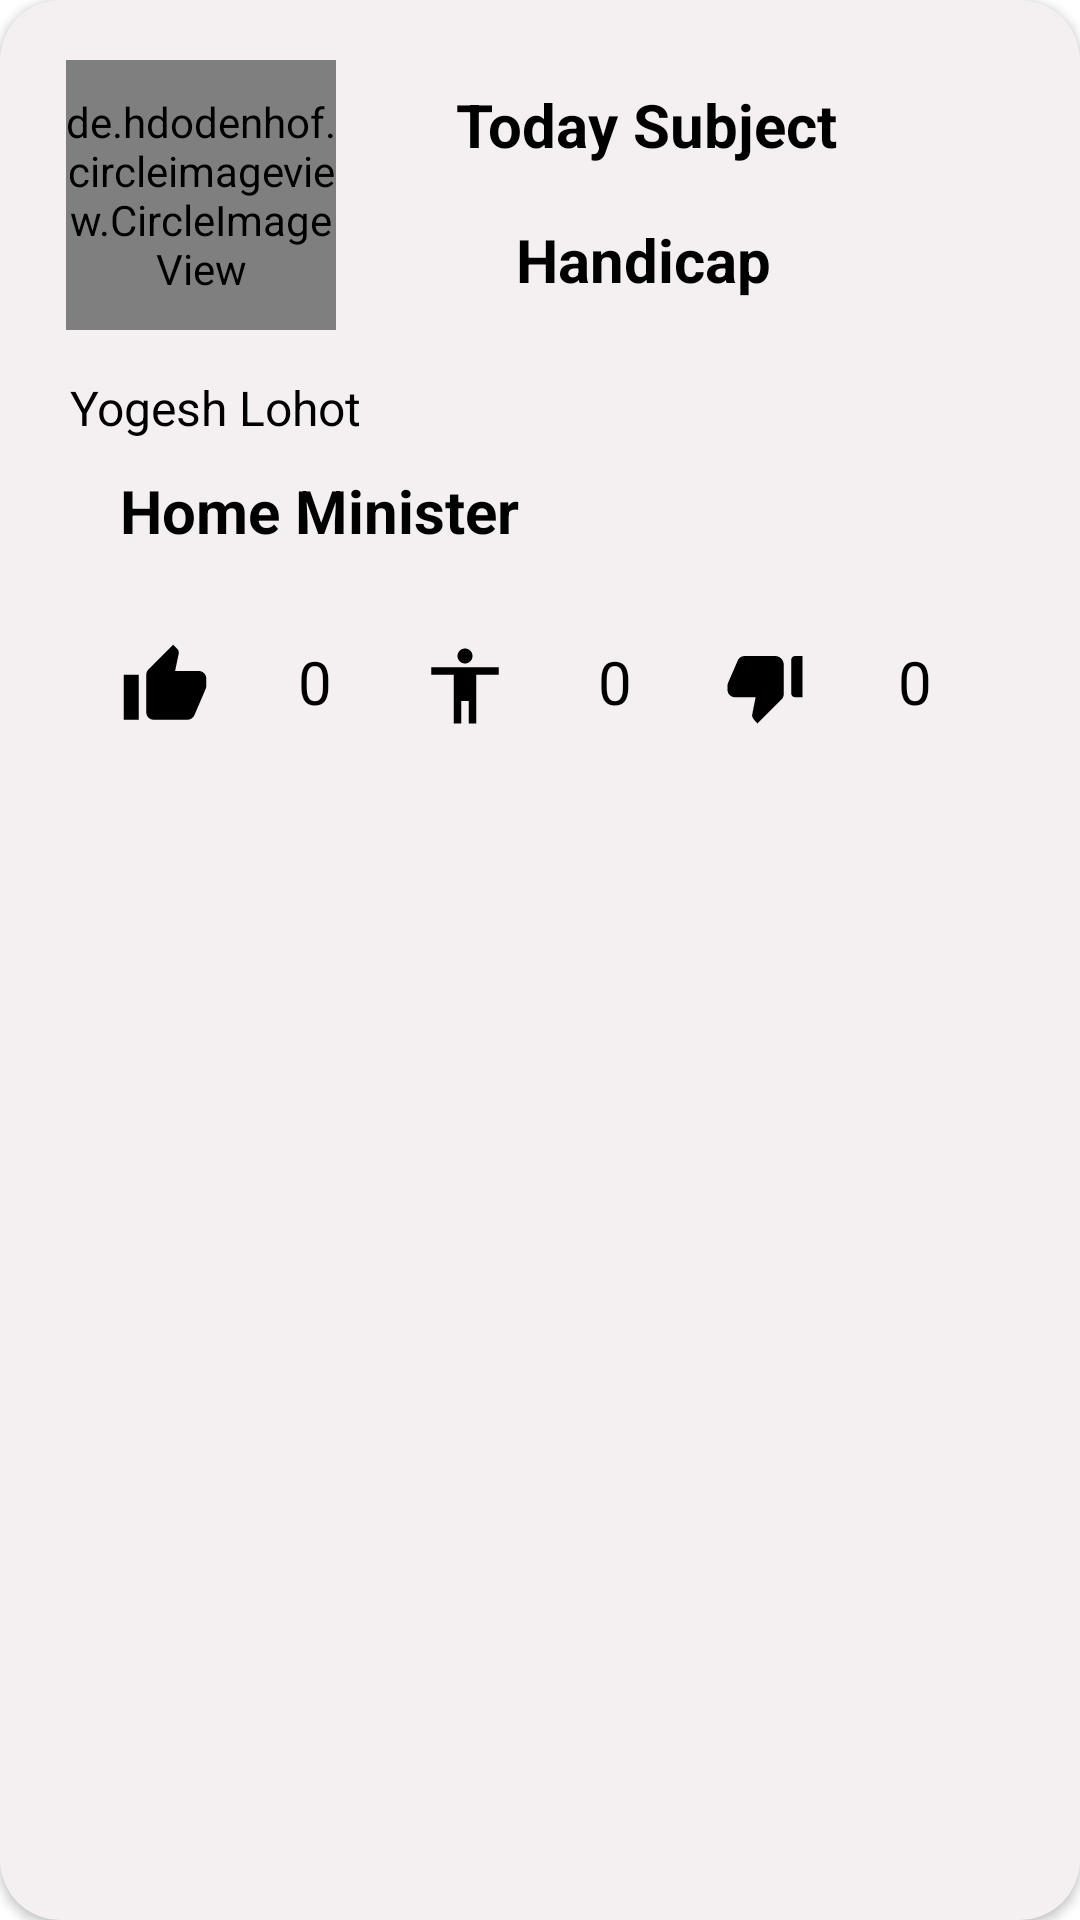

Where icons sit on this 1080 × 1920 app screen, as (x1, y1, x2, y2):
thumb down: (727, 656, 803, 724)
thumb up: (123, 645, 207, 720)
